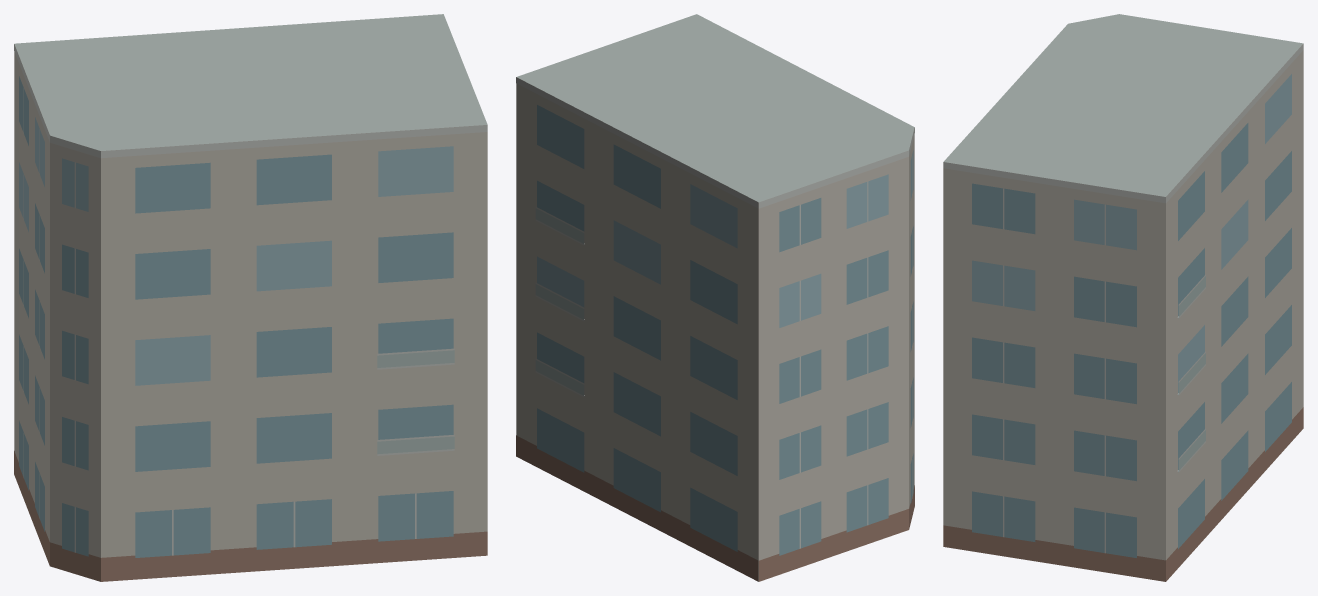
The model's file is survey-upis-32964916.glb.
3 renders of one model, left to right at view 1: azimuth 30°, elevation 25°; view 2: azimuth 150°, elevation 25°; view 3: azimuth 270°, elevation 25°, orthographic. The views are drawn at different scales.
Visible parts, largest first — view 1: survey-upis-32964916.tmp; view 2: survey-upis-32964916.tmp; view 3: survey-upis-32964916.tmp.
Part boxes in pixels (left/top/right/bottom): survey-upis-32964916.tmp: left=14, top=14, right=487, bottom=581; survey-upis-32964916.tmp: left=516, top=14, right=914, bottom=581; survey-upis-32964916.tmp: left=943, top=14, right=1303, bottom=581.
Size of the model in its own units: 15.05 by 14.75 by 12.52.
